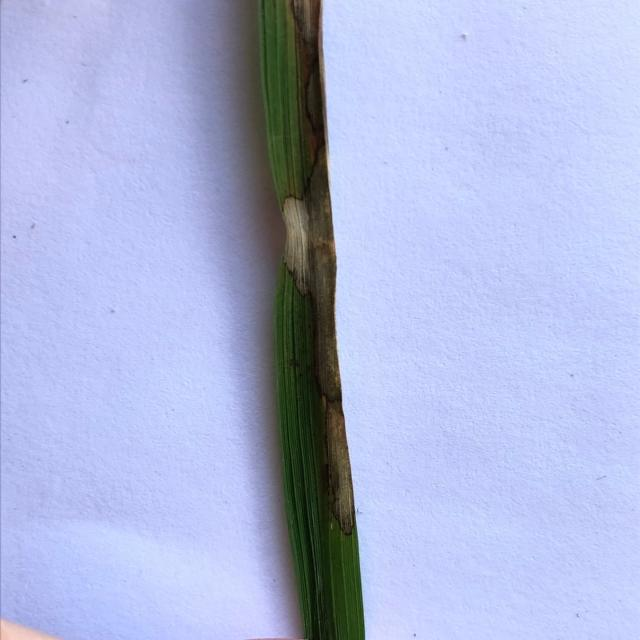leaf blight: (312, 196, 357, 533), (279, 192, 313, 294), (281, 0, 319, 44)
